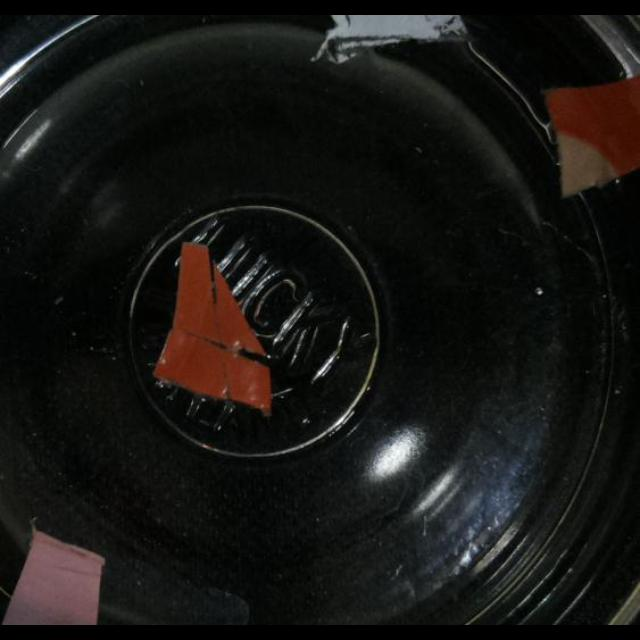Fragment: (153, 240, 275, 416), (547, 68, 639, 198), (2, 530, 108, 626), (312, 15, 471, 62)
